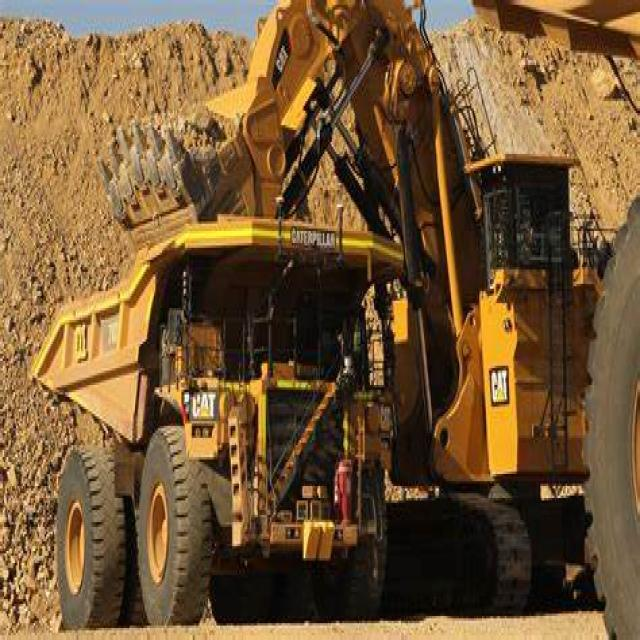dump_truck: (47, 197, 405, 616)
